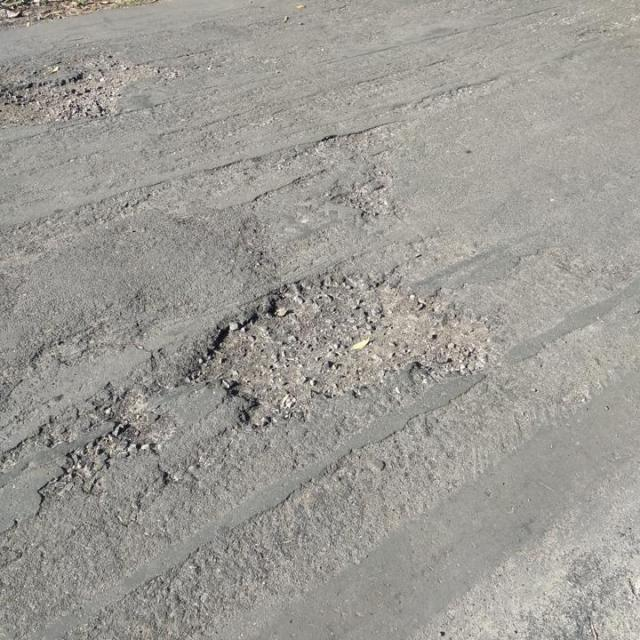pothole: (178, 260, 508, 433), (1, 46, 185, 126), (90, 382, 184, 452), (326, 177, 401, 220)
